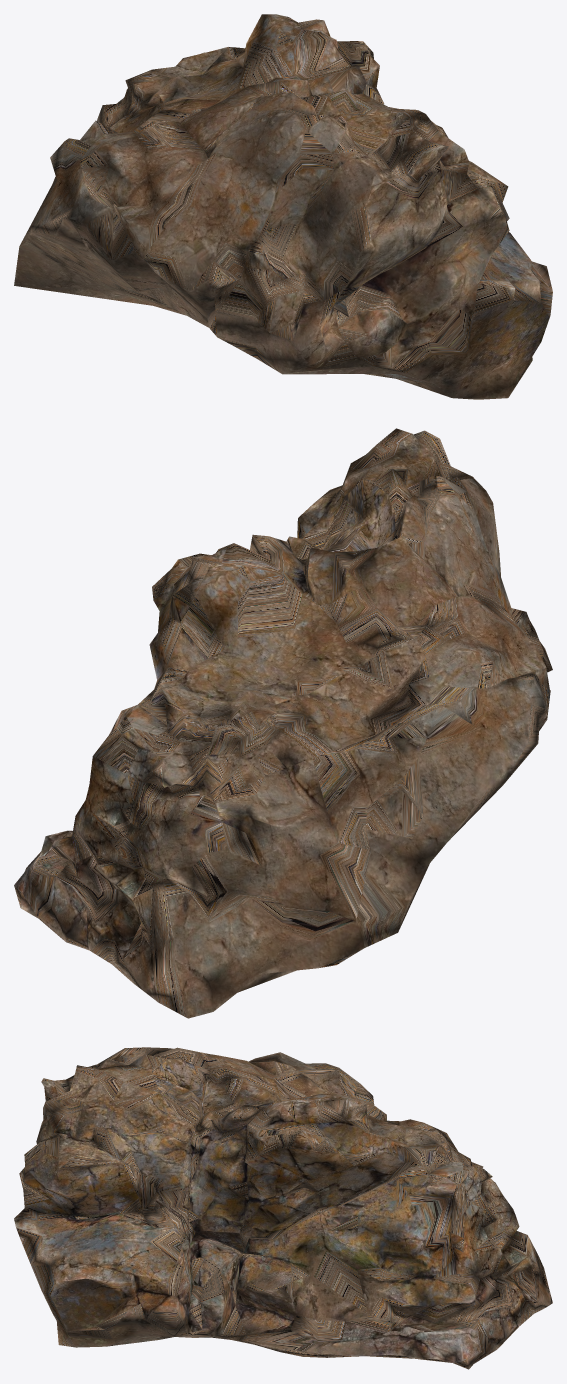
The model's file is boulder_low.glb.
3 views of the same model, one above another, from view 1: azimuth 30°, elevation 25°; view 2: azimuth 150°, elevation 25°; view 3: azimuth 270°, elevation 25° (orthographic). The views are drawn at different scales.
Visible parts, largest first — view 1: boulder_01; view 2: boulder_01; view 3: boulder_01.
Boxes of the visible parts, x1,y1,x2,y2 form: boulder_01: [14, 14, 552, 399]; boulder_01: [14, 428, 552, 1018]; boulder_01: [14, 1047, 552, 1369].
Bounding box in the file's own units: 1.26 × 0.9906 × 1.8.
1 material, 1 textured.
